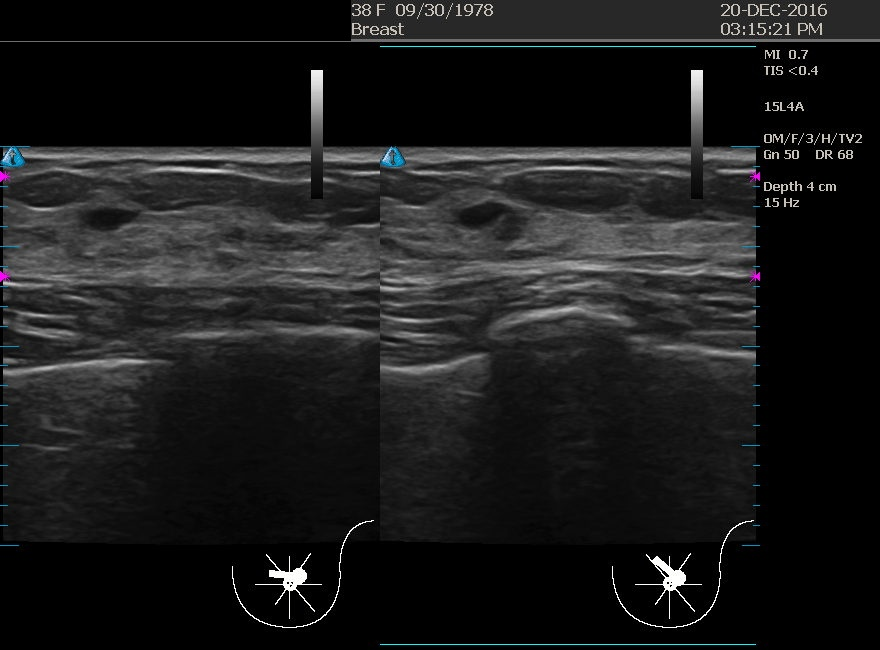BIRADS_2: (57, 194, 257, 394), (406, 149, 606, 349)
